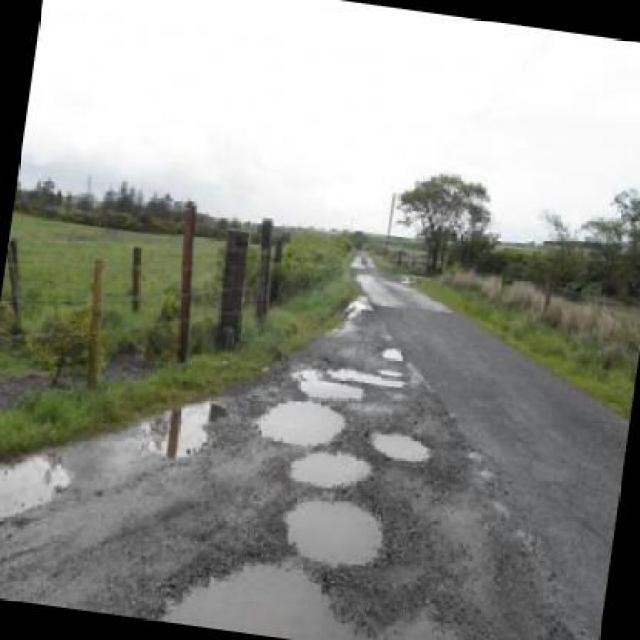pothole1: (144, 536, 378, 638), (276, 485, 392, 570), (254, 389, 352, 451), (370, 592, 484, 638), (286, 439, 376, 495), (366, 422, 439, 464), (288, 365, 366, 404), (328, 364, 409, 390), (380, 342, 406, 362)
